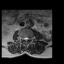CCS_normal: (25, 35, 27, 43)
LFS_stenosis: (29, 36, 31, 41)
LLS_normal: (27, 35, 29, 41)
RFS_normal: (21, 36, 23, 41)
RLS_normal: (23, 36, 25, 41)
